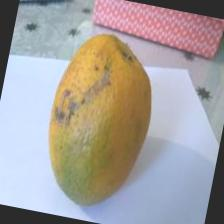Orange Rotten: (24, 16, 180, 224)
